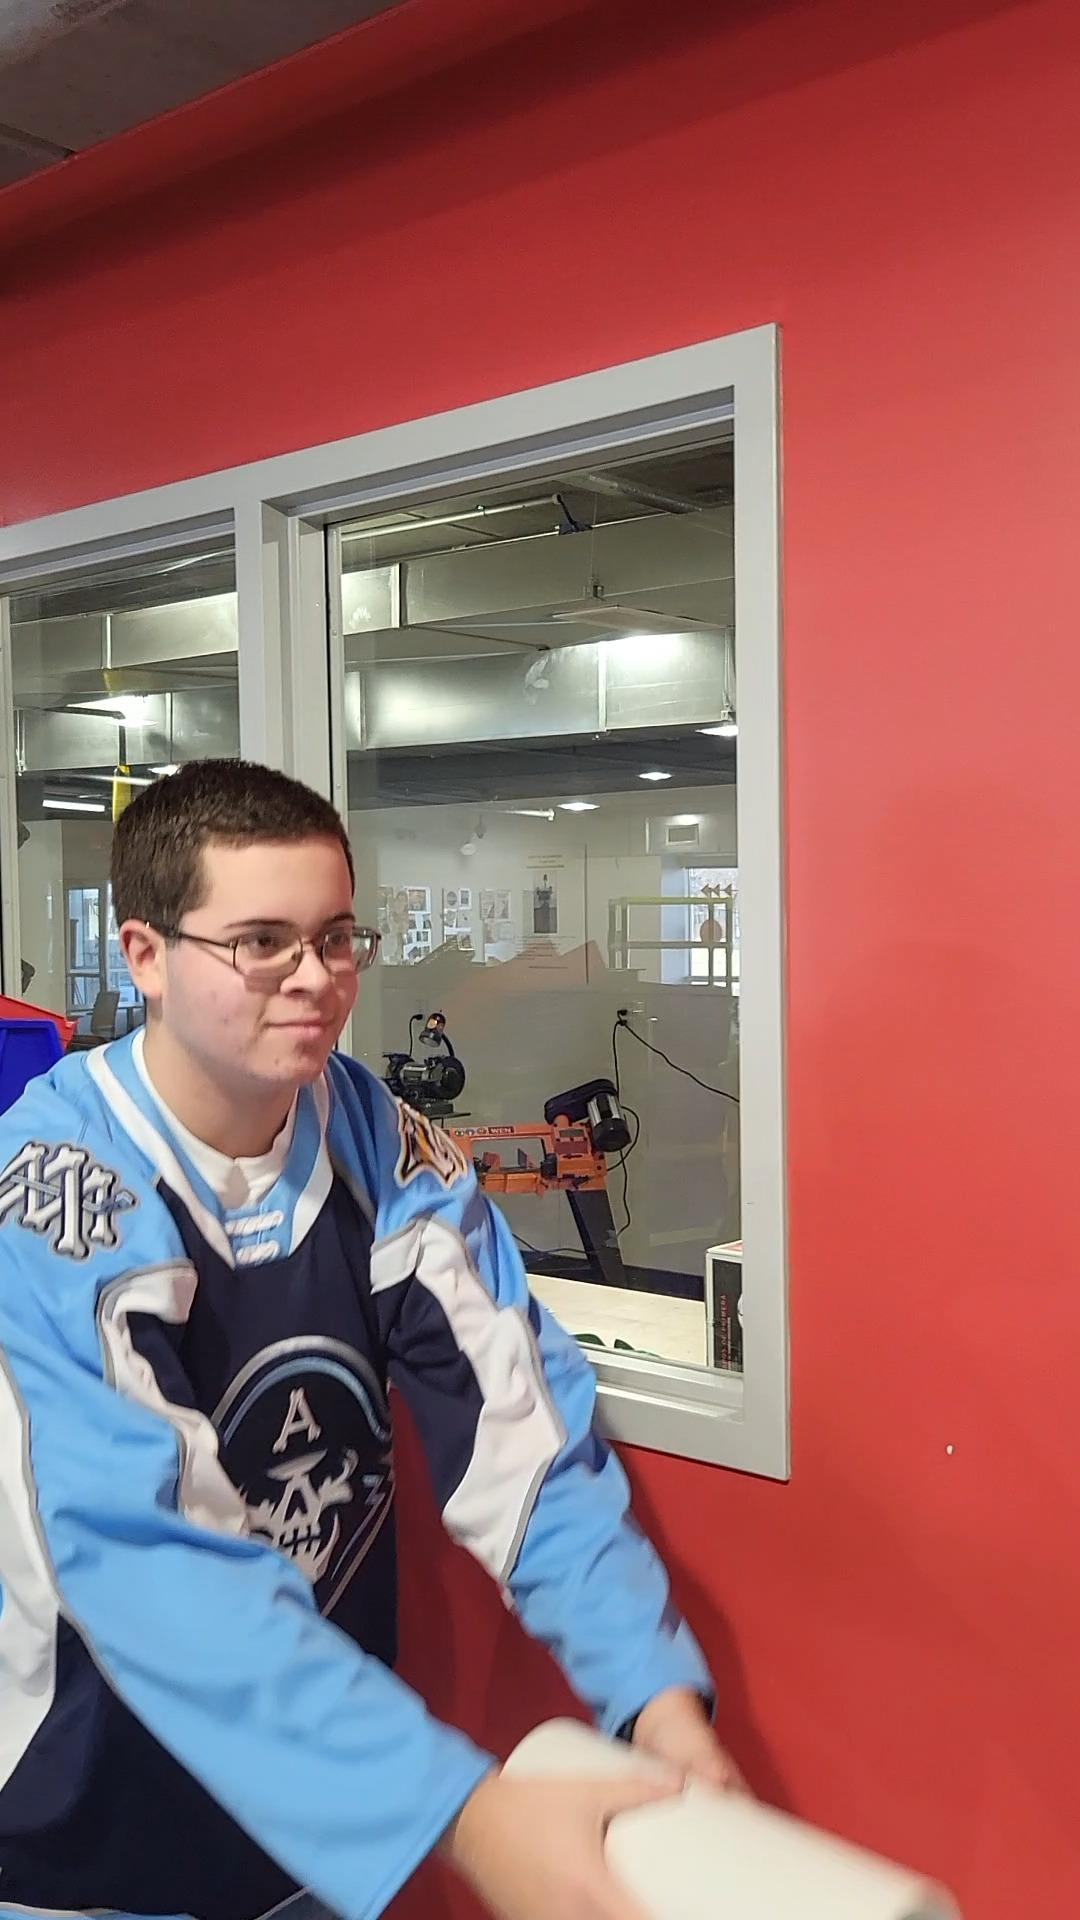coral: (493, 1720, 971, 1920)
